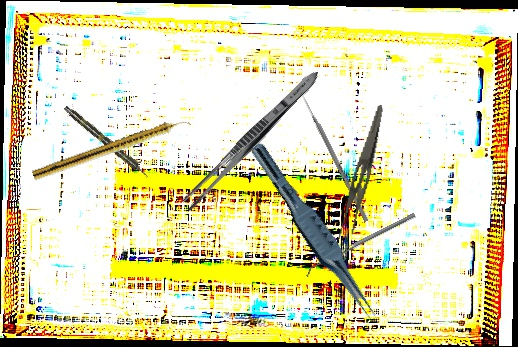Dressing Forceps: (178, 65, 324, 215), (335, 101, 385, 244)
Handpiece: (31, 114, 193, 184), (62, 103, 151, 181)
Pusher: (297, 88, 370, 223)
Spatula Surgical: (303, 212, 418, 278)
Tissue Forceps: (240, 140, 387, 324)
